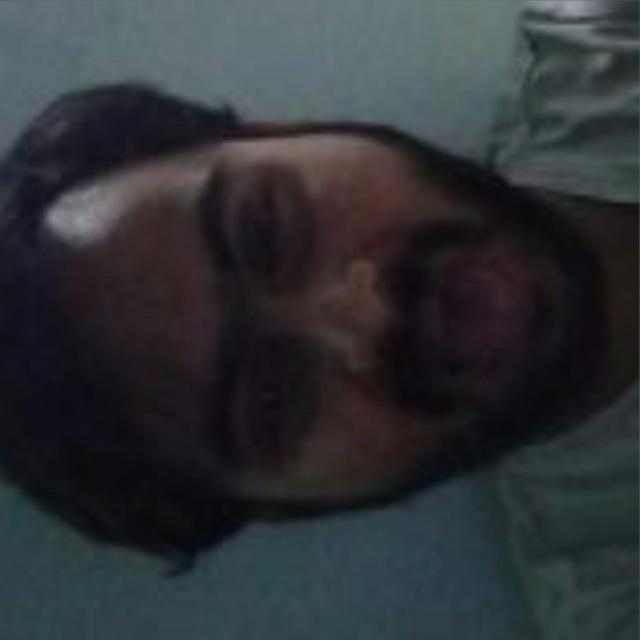Happy: (47, 122, 582, 517)
